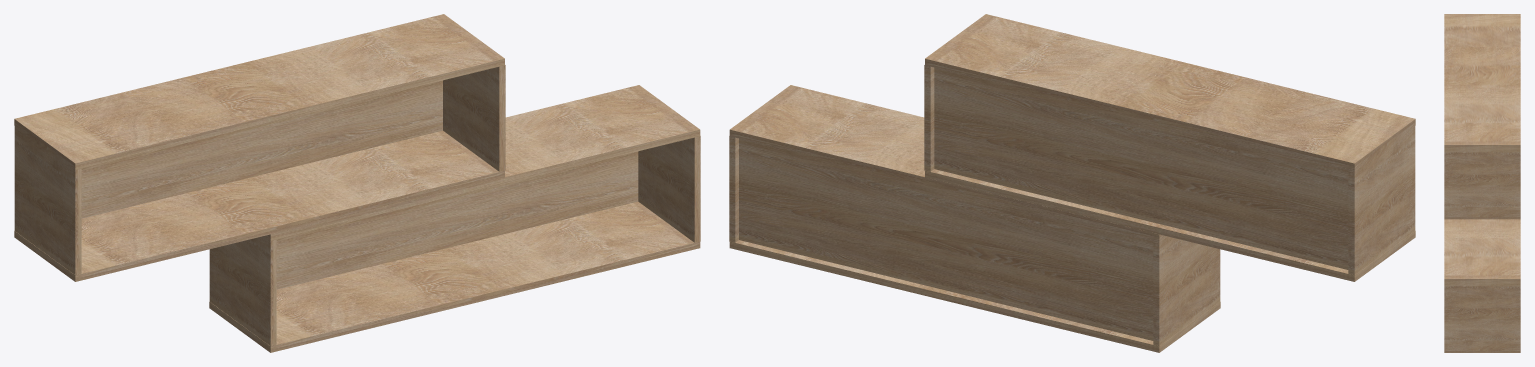
Rendered from Shelf.FBX.
The picture shows the model from 3 angles, left to right: view 1: azimuth 30°, elevation 25°; view 2: azimuth 150°, elevation 25°; view 3: azimuth 270°, elevation 25°; orthographic projection. The views are drawn at different scales.
Visible parts, largest first — view 1: Shelf; view 2: Shelf; view 3: Shelf.
Boxes of the visible parts, x1=… form: Shelf: x1=14, y1=14, x2=700, y2=352; Shelf: x1=729, y1=14, x2=1415, y2=352; Shelf: x1=1444, y1=14, x2=1520, y2=352.
Bounding box in the file's own units: 179 × 64.87 × 30.28.
1 material, 1 textured.
